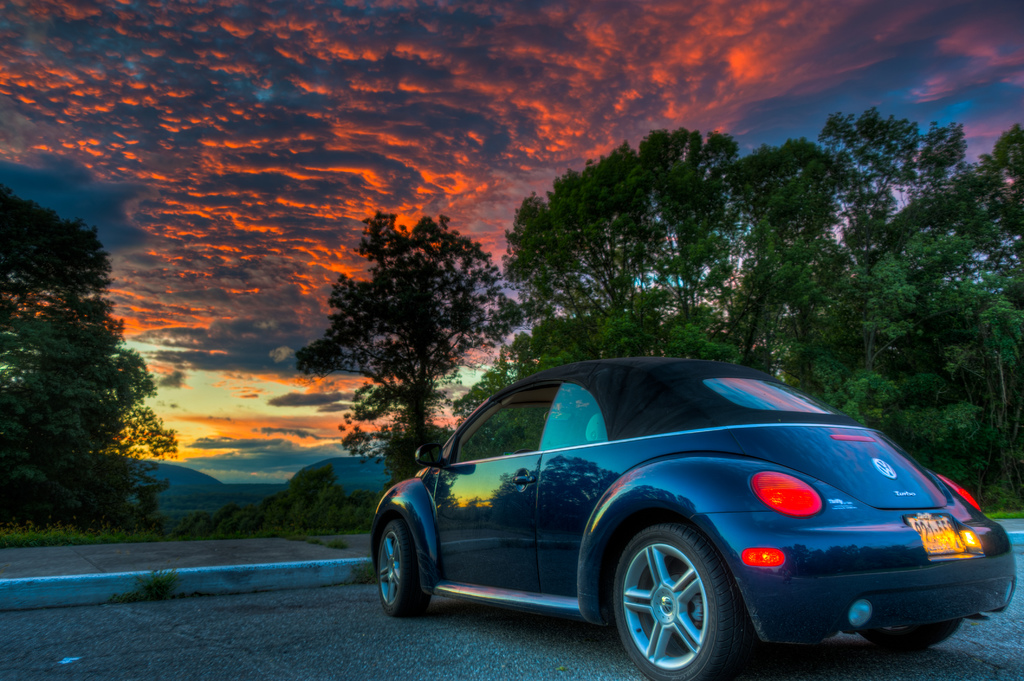Tree: (501, 105, 1024, 492), (0, 181, 177, 529), (294, 210, 523, 471)
